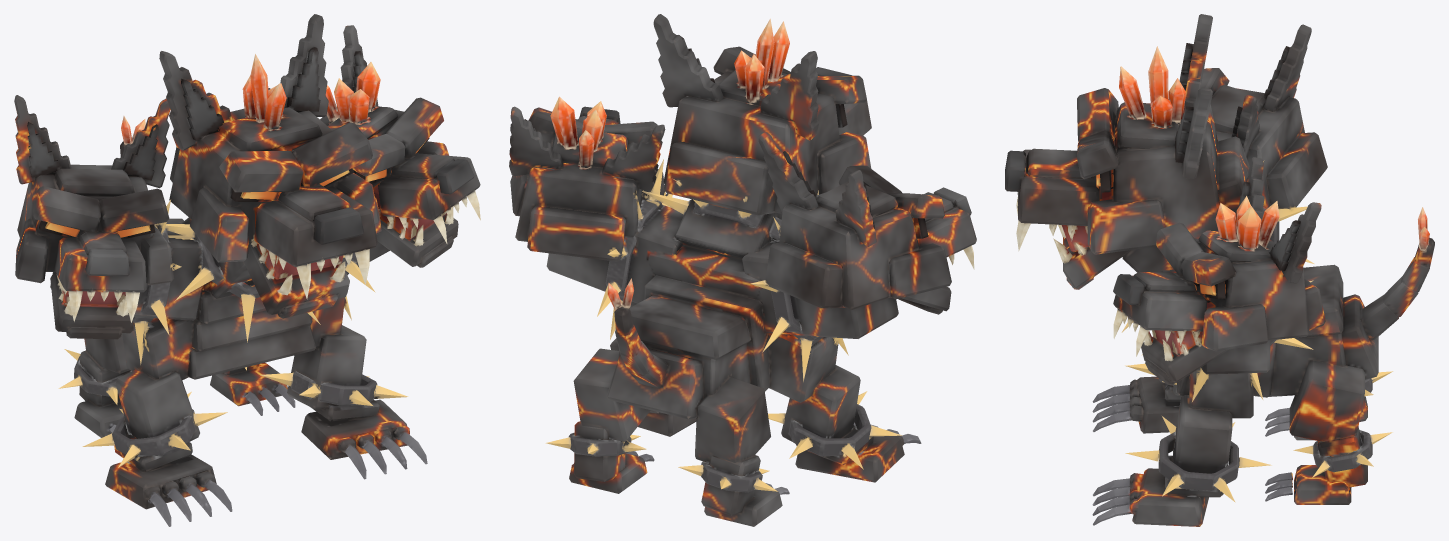
Rendered from CerbereInfernal.glb.
3 renders of one model, left to right at view 1: azimuth 30°, elevation 25°; view 2: azimuth 150°, elevation 25°; view 3: azimuth 270°, elevation 25°, orthographic.
Visible parts, largest first — view 1: CerbereInfernal; view 2: CerbereInfernal; view 3: CerbereInfernal.
Part boxes in pixels (x1,y1,x2,y2): CerbereInfernal: (14, 14, 480, 526); CerbereInfernal: (509, 14, 976, 526); CerbereInfernal: (1005, 14, 1434, 526).
Size of the model in its own units: 4.42 by 4.05 by 3.81.
Materials: 1 (1 with a texture image).
